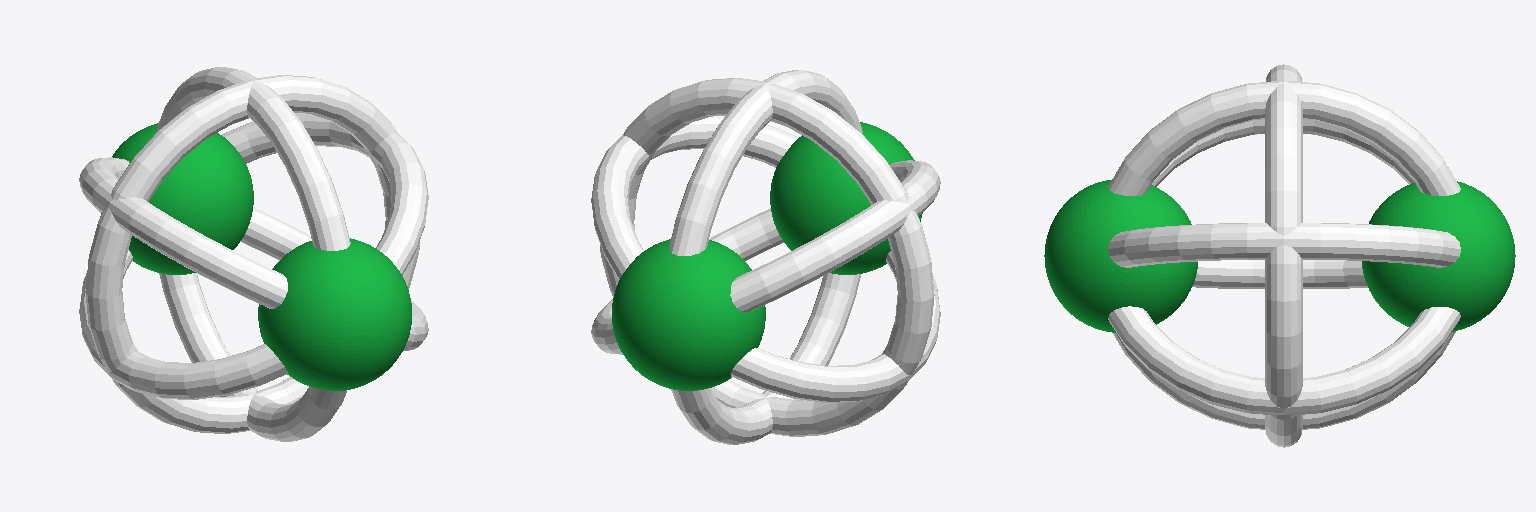
File: two_atom_with_tors.obj
3 renders of one model, left to right at view 1: azimuth 30°, elevation 25°; view 2: azimuth 150°, elevation 25°; view 3: azimuth 270°, elevation 25°, orthographic.
Visible parts, largest first — view 1: Object.5, Object.1, Object.6, Object.2, Object.4, Object.3; view 2: Object.5, Object.3, Object.6, Object.2, Object.4, Object.1; view 3: Object.6, Object.4, Object.2, Object.1, Object.3, Object.5.
Boxes of the visible parts, <box> form: Object.5: <box>85,75,419,433</box>; Object.1: <box>258,238,411,390</box>; Object.6: <box>157,67,350,441</box>; Object.2: <box>79,113,428,399</box>; Object.4: <box>79,157,428,350</box>; Object.3: <box>101,123,253,274</box>; Object.5: <box>600,78,934,436</box>; Object.3: <box>612,239,765,390</box>; Object.6: <box>669,70,862,444</box>; Object.2: <box>591,116,940,402</box>; Object.4: <box>591,160,940,354</box>; Object.1: <box>770,122,922,274</box>; Object.6: <box>1108,81,1460,429</box>; Object.4: <box>1108,119,1460,415</box>; Object.2: <box>1108,223,1460,288</box>; Object.1: <box>1044,180,1197,332</box>; Object.3: <box>1362,181,1515,331</box>; Object.5: <box>1265,64,1302,447</box>.
Size of the model in its own units: 99.57 by 99.57 by 122.